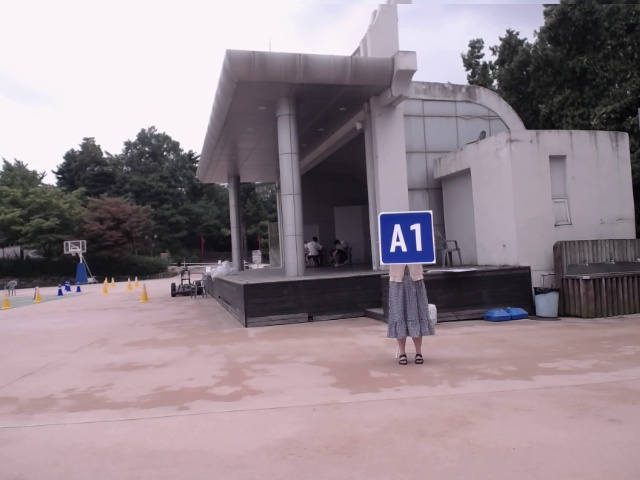delivery_a1: (379, 212, 436, 265)
